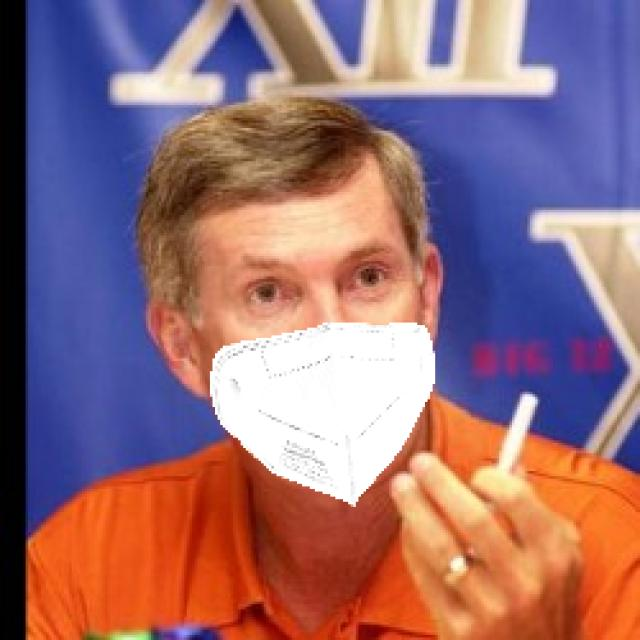mask: (188, 327, 452, 507)
